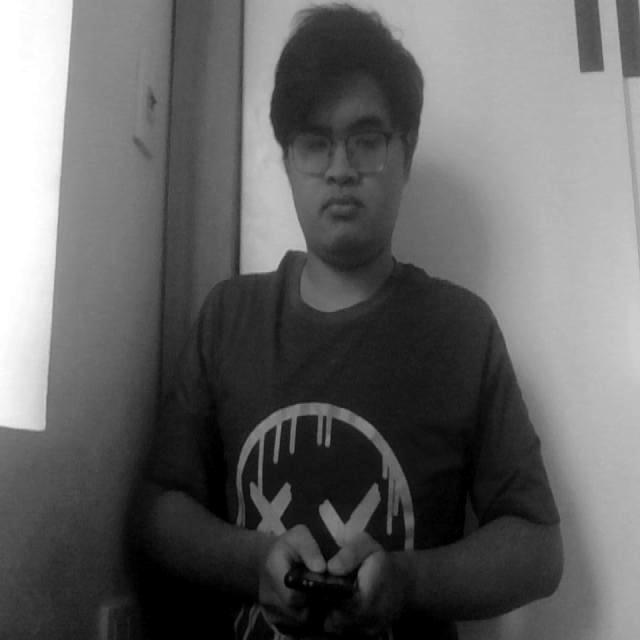phone: (282, 534, 374, 626)
